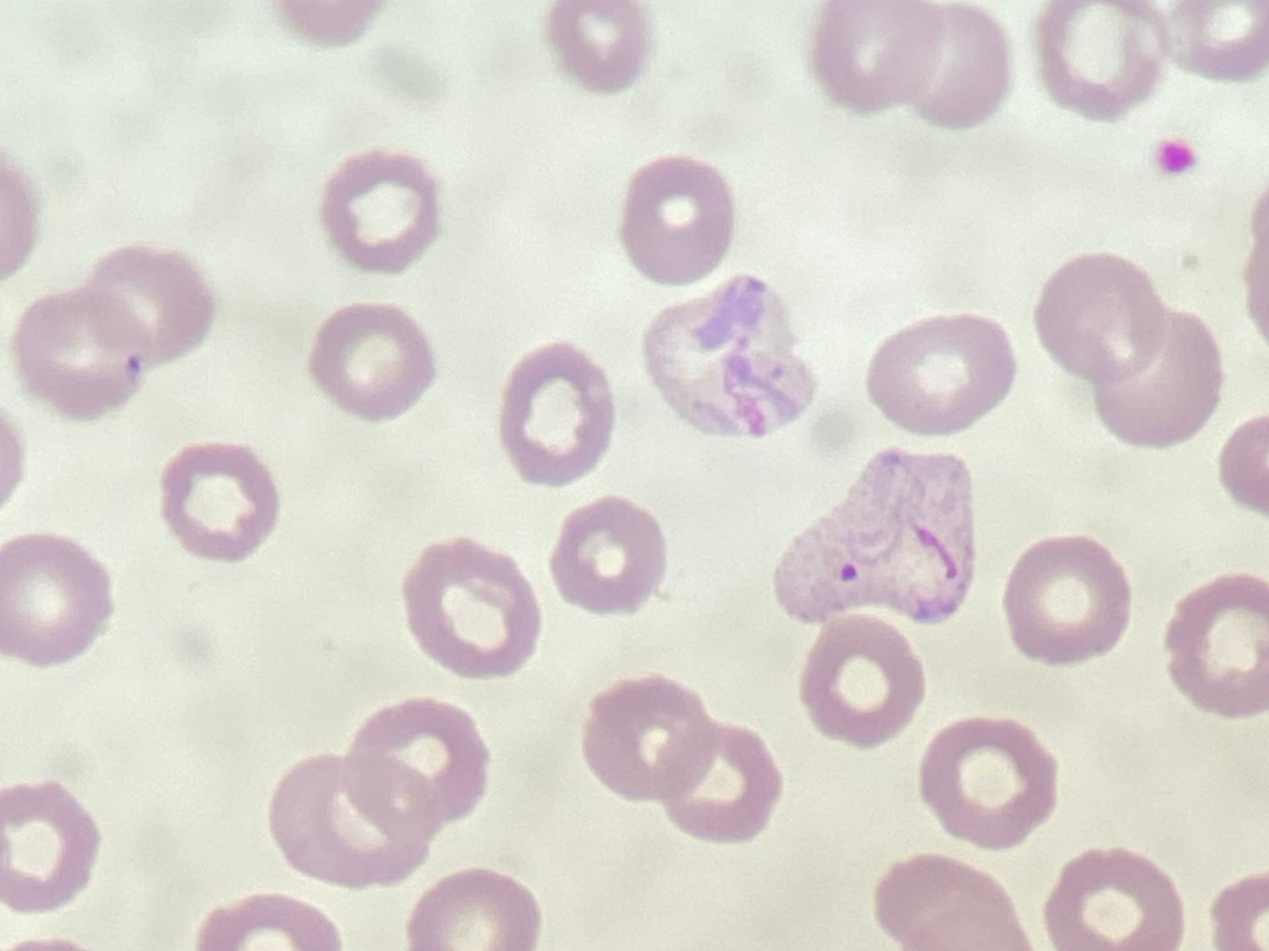Infected: (772, 440, 981, 632), (637, 278, 819, 442)
Uninfected: (271, 754, 444, 886), (403, 537, 541, 681), (347, 699, 487, 830), (924, 716, 1061, 849), (869, 312, 1013, 436), (12, 296, 154, 416), (798, 613, 925, 746), (1034, 251, 1164, 379), (1092, 323, 1222, 450), (309, 303, 444, 423), (620, 154, 738, 287), (88, 243, 216, 364), (585, 673, 709, 797), (1167, 569, 1269, 719), (1034, 0, 1160, 120), (499, 344, 607, 483), (1006, 536, 1125, 661), (317, 157, 445, 272), (155, 446, 280, 563), (0, 531, 108, 666), (808, 0, 934, 112), (1043, 854, 1185, 951), (875, 855, 1018, 951), (661, 732, 783, 844), (0, 783, 100, 915), (551, 502, 664, 615), (917, 10, 1014, 126), (408, 871, 541, 951), (547, 0, 644, 98)
